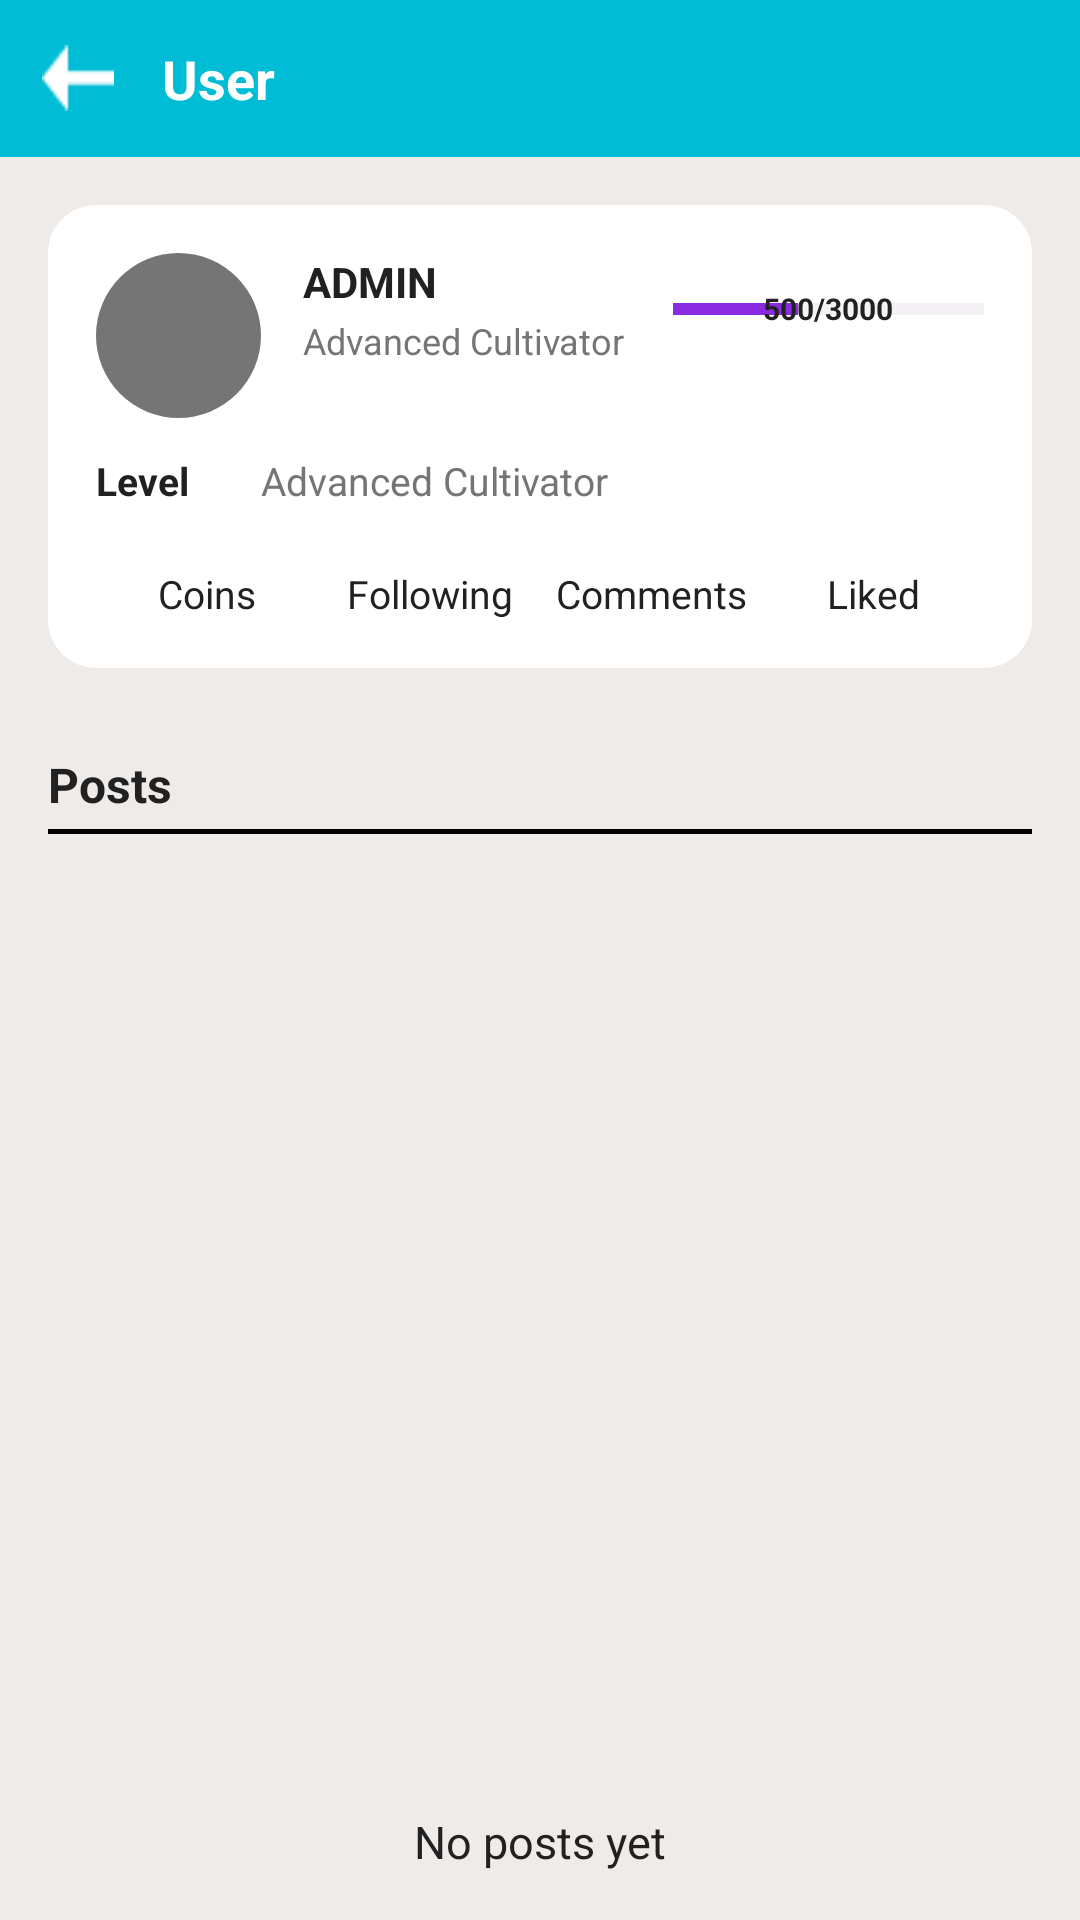

Icon click points for this 1080 × 1920 phone screenshot, format [x,y]:
activity back: [78,78]
